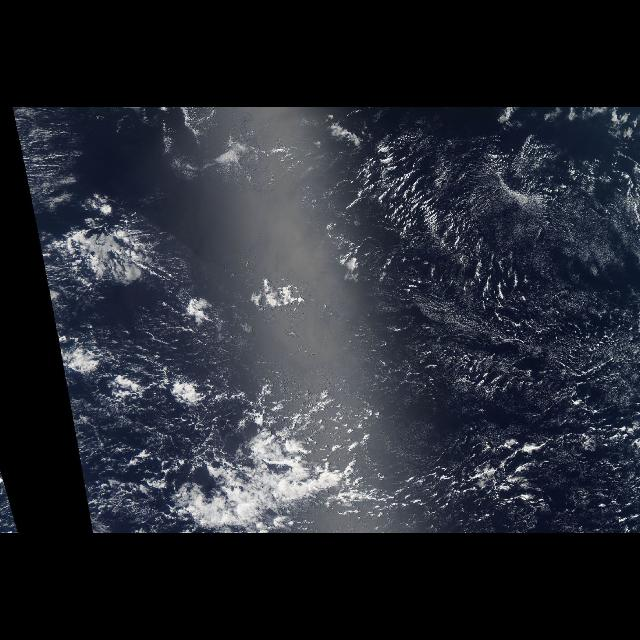Gravel: (330, 132, 636, 530), (70, 312, 240, 460)
Sugar: (206, 109, 640, 533)
